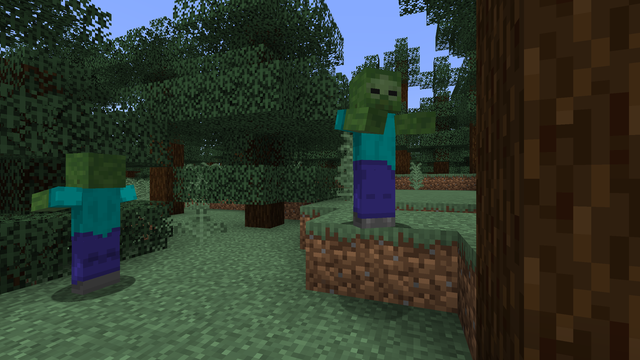zombies: (59, 155, 130, 298), (346, 68, 397, 230)
